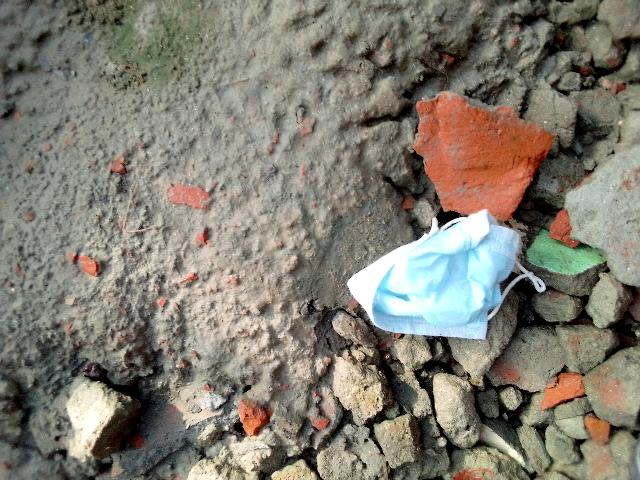mask: (362, 220, 528, 340)
